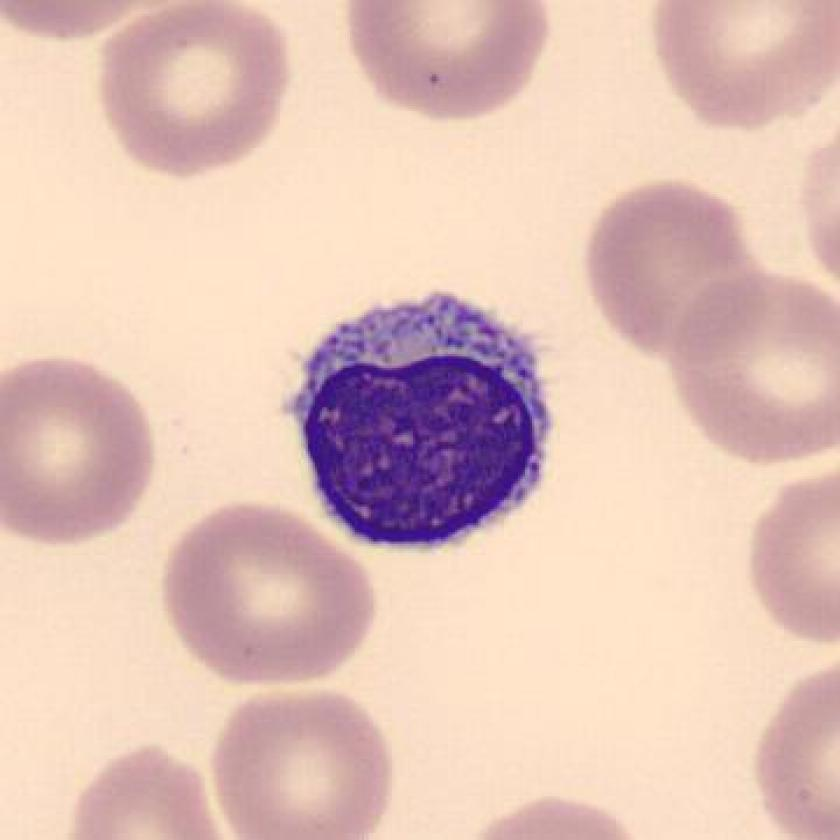lymphocyte: (274, 281, 570, 563)
